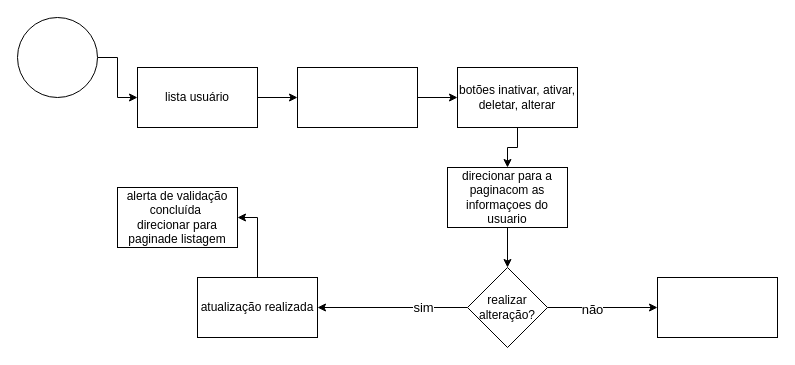
The diagram is 795 pixels wide and 365 high, and some of its shapes have lost their labels. The centre of each missing label's shape, as x and y in pixels:
"fechar modal" goes at point (717, 307).
"inicio" goes at point (57, 57).
"nome, usuário e turma" goes at point (357, 97).
